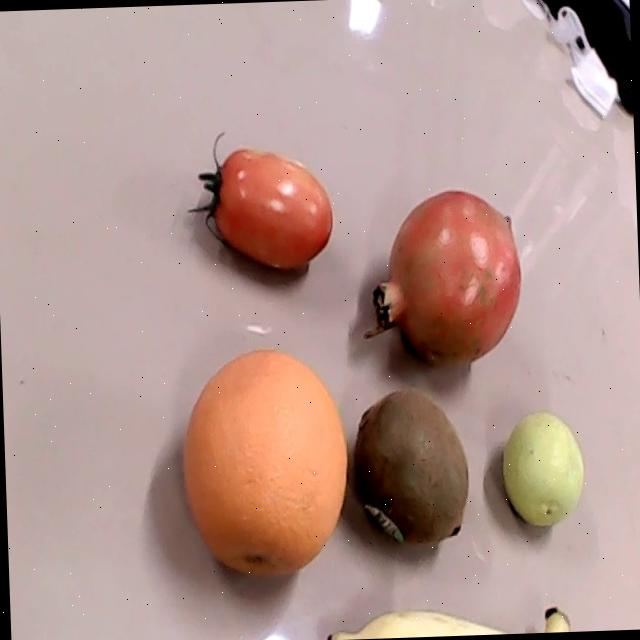kiwi: (353, 391, 468, 545)
lemon: (502, 411, 584, 528)
orange: (182, 350, 349, 577)
pomegranate: (364, 189, 521, 367)
tomato: (188, 131, 332, 268)
